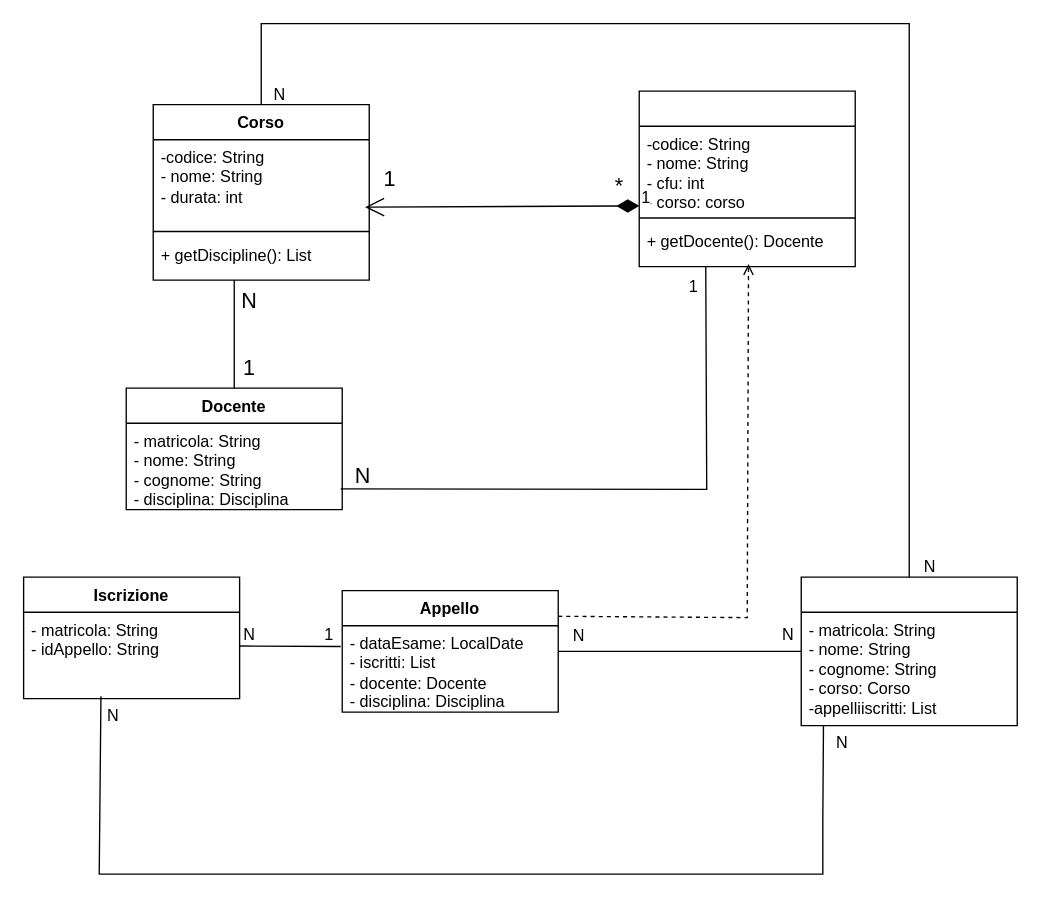
Some shapes in this 1041 by 899 pixel diagram are drawn without their labels. The box of each missing label's shape, as (x1, y1, x2, y2) in pixels:
Disciplina: (638, 90, 855, 267)
Studente: (800, 576, 1017, 726)
